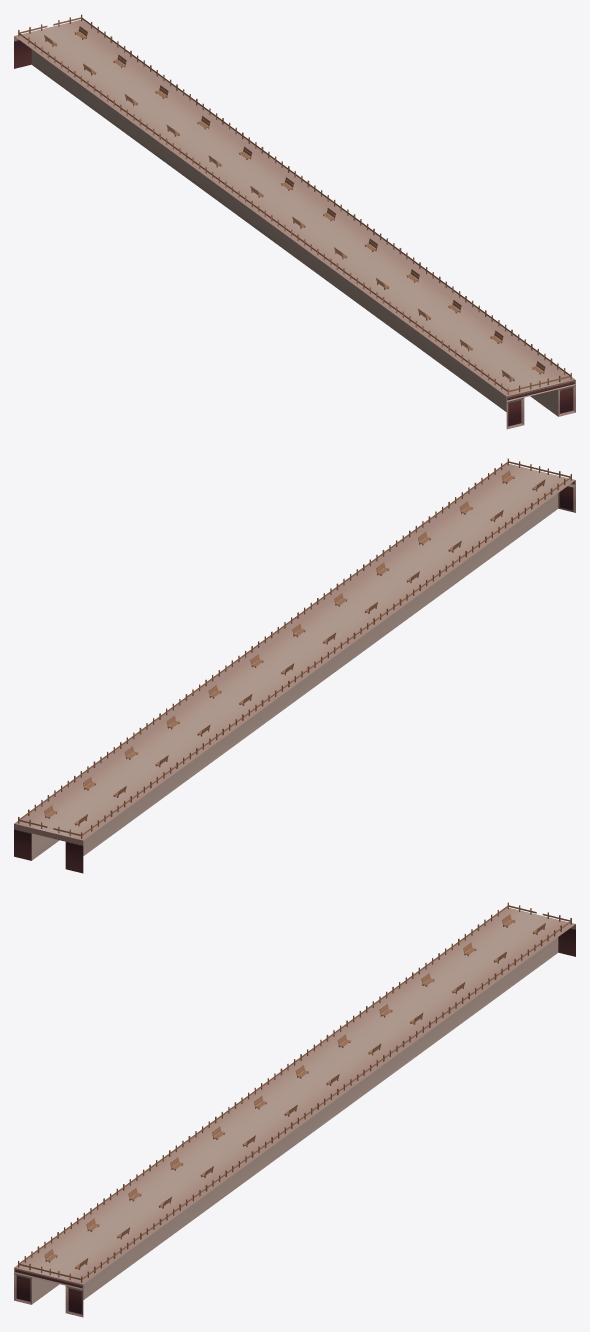
Rendered from arch.fbx.
3 renders of one model, top to bottom at view 1: azimuth 30°, elevation 25°; view 2: azimuth 150°, elevation 25°; view 3: azimuth 330°, elevation 25°, orthographic.
Parts seen in each view (by area): view 1: Box101; view 2: Box101; view 3: Box101.
Boxes of the visible parts, x1,y1,x2,y2 form: Box101: (14,14,575,429); Box101: (14,458,575,873); Box101: (14,902,575,1317).
Size of the model in its own units: 148 by 81.3 by 1820.
